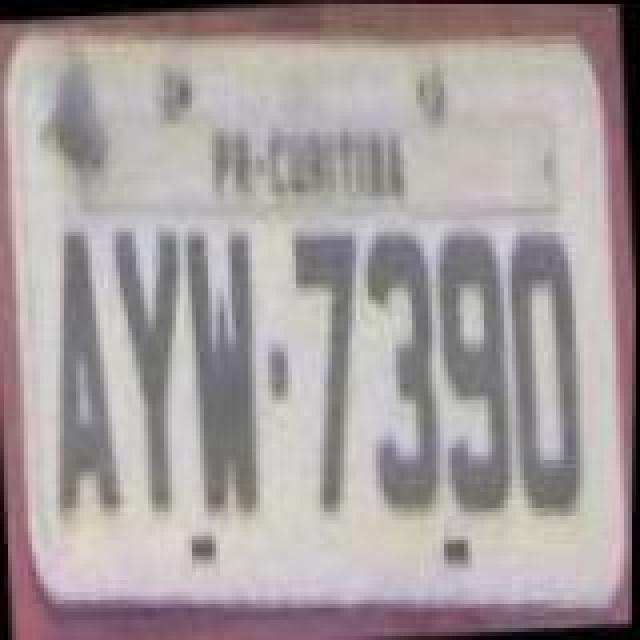3: (358, 220, 450, 516)
7: (288, 226, 376, 514)
9: (430, 224, 522, 520)
A: (40, 226, 128, 518)
O: (502, 224, 594, 520)
W: (180, 224, 268, 520)
Y: (106, 222, 198, 518)
